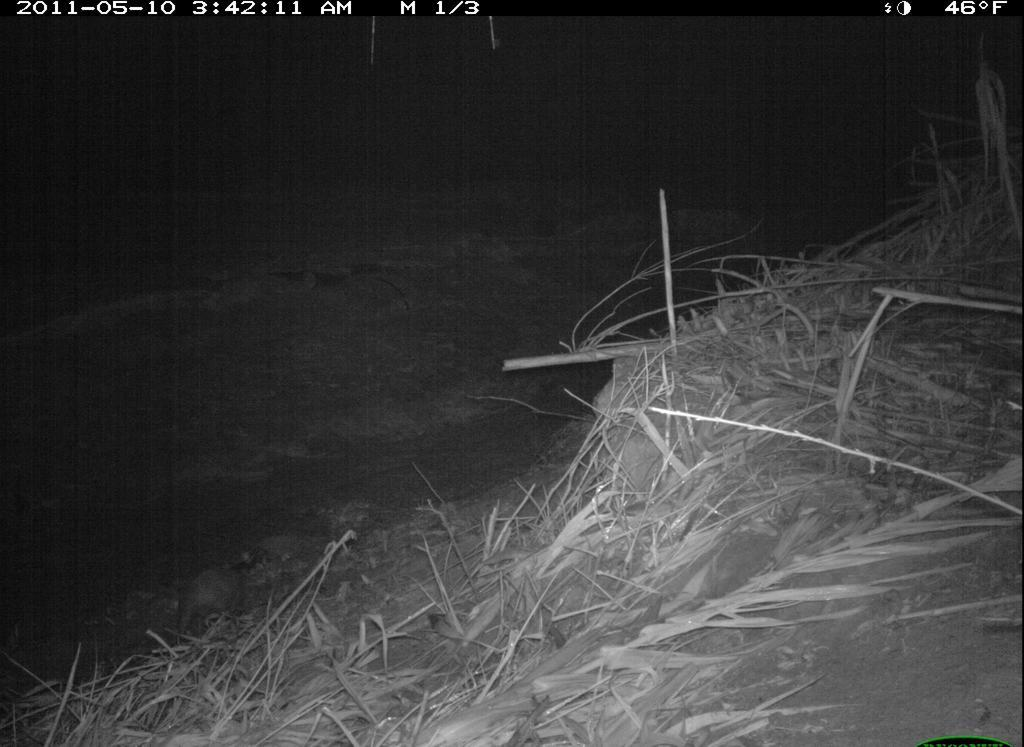opossum: (162, 550, 257, 645)
